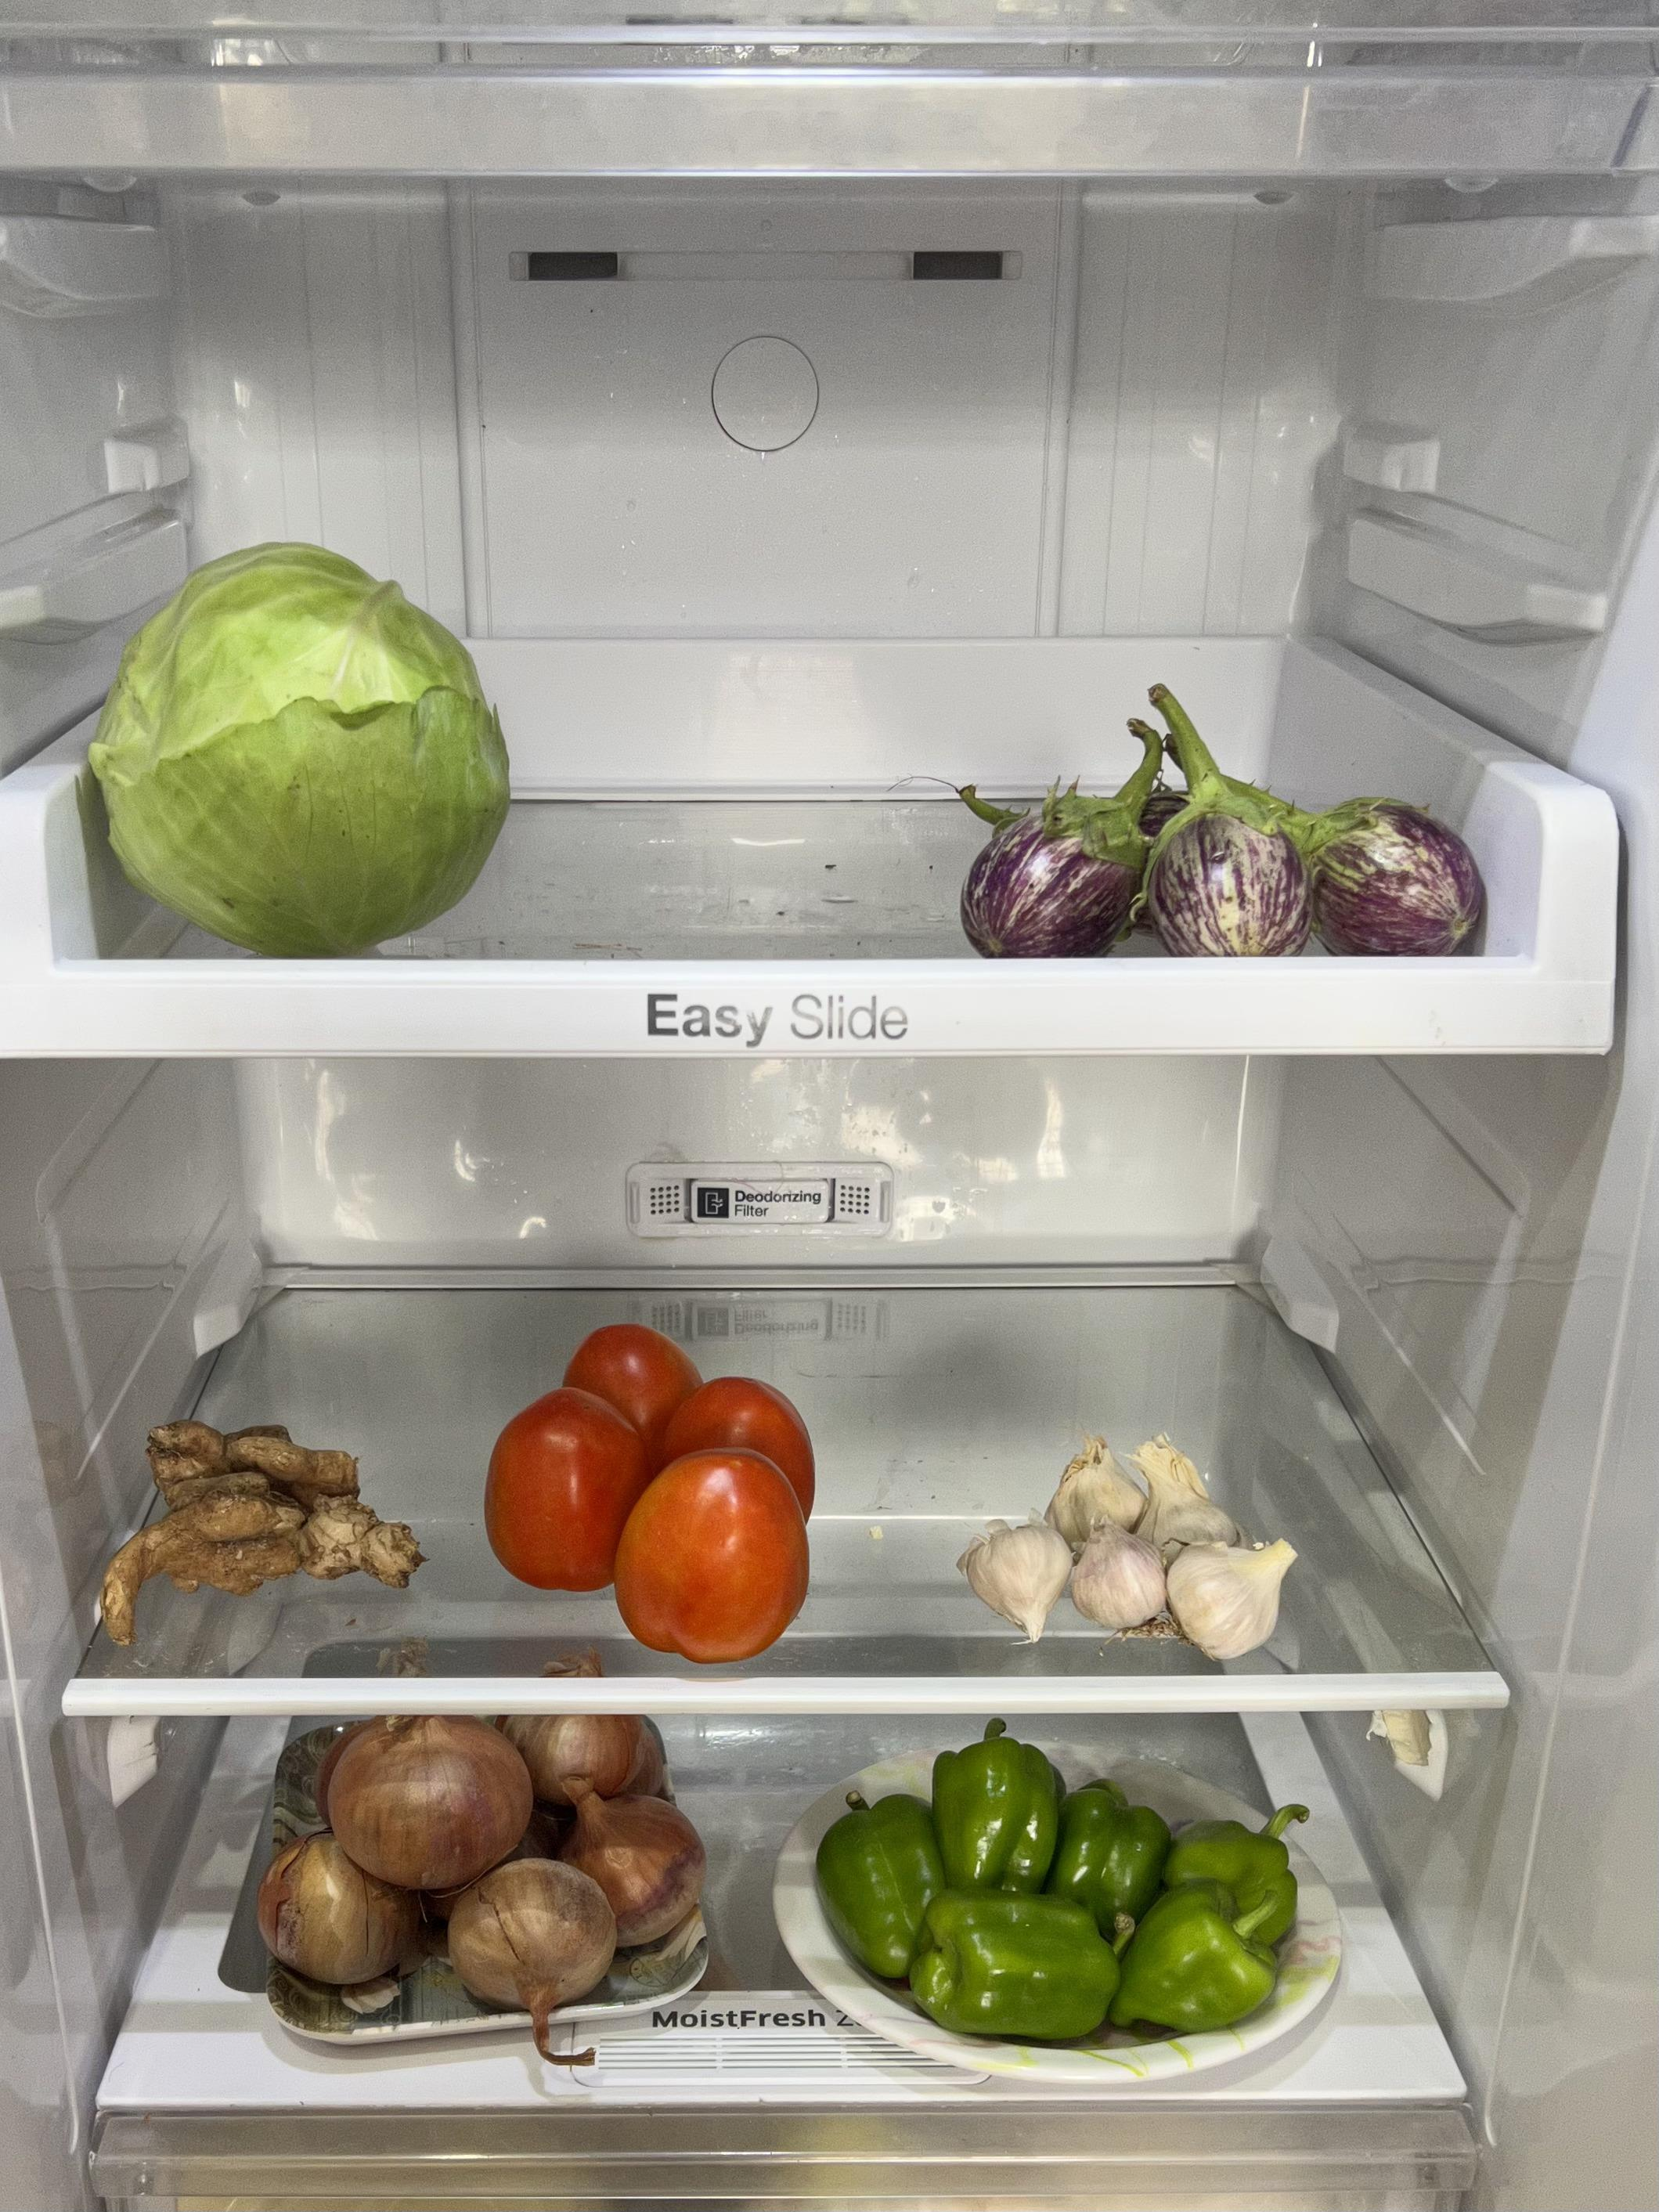bringal: (939, 741, 1486, 957)
cabbage: (94, 546, 516, 943)
capsicum: (824, 1720, 1291, 2043)
garlic: (960, 1436, 1303, 1665)
ginger: (91, 1405, 430, 1639)
onion: (244, 1720, 711, 2031)
tomato: (477, 1314, 814, 1659)
